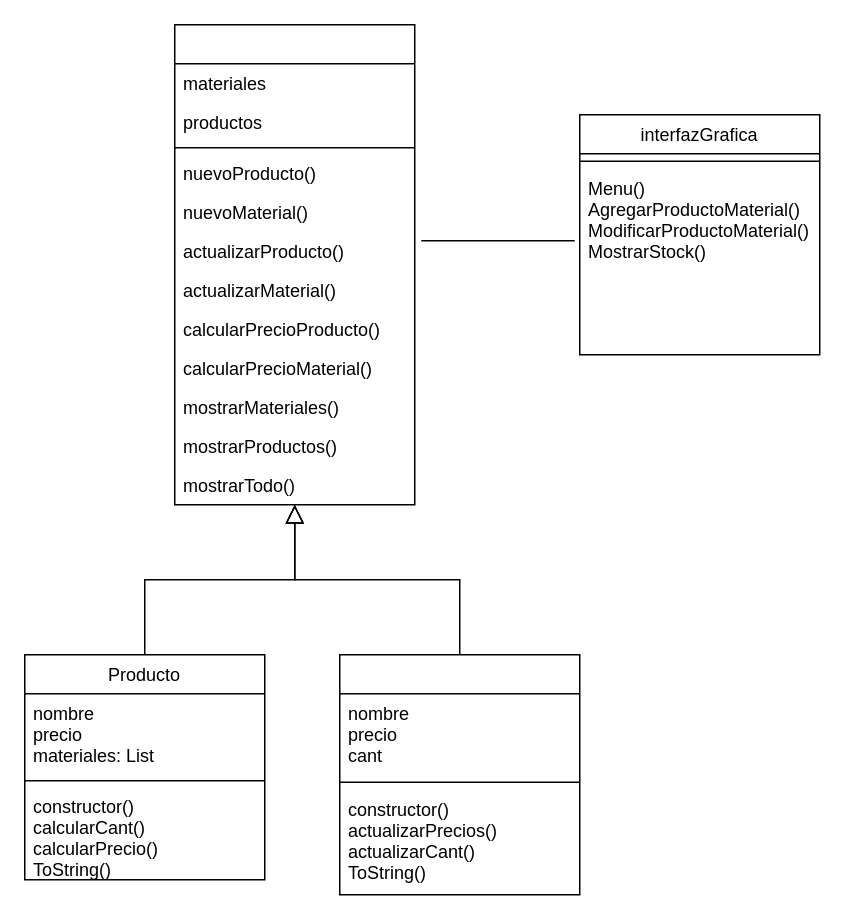
The diagram is 845 pixels wide and 920 high, and some of its shapes have lost their labels. Here are the shapes that lost their labels. From the top down, the box of each, then its label:
(173, 23, 415, 505): Sistema
(338, 653, 580, 895): Material
